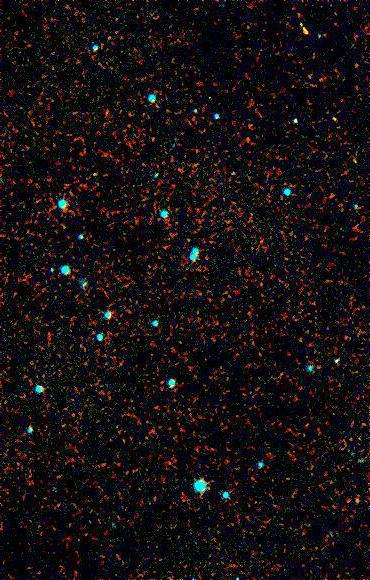star: (342, 486, 370, 516)
